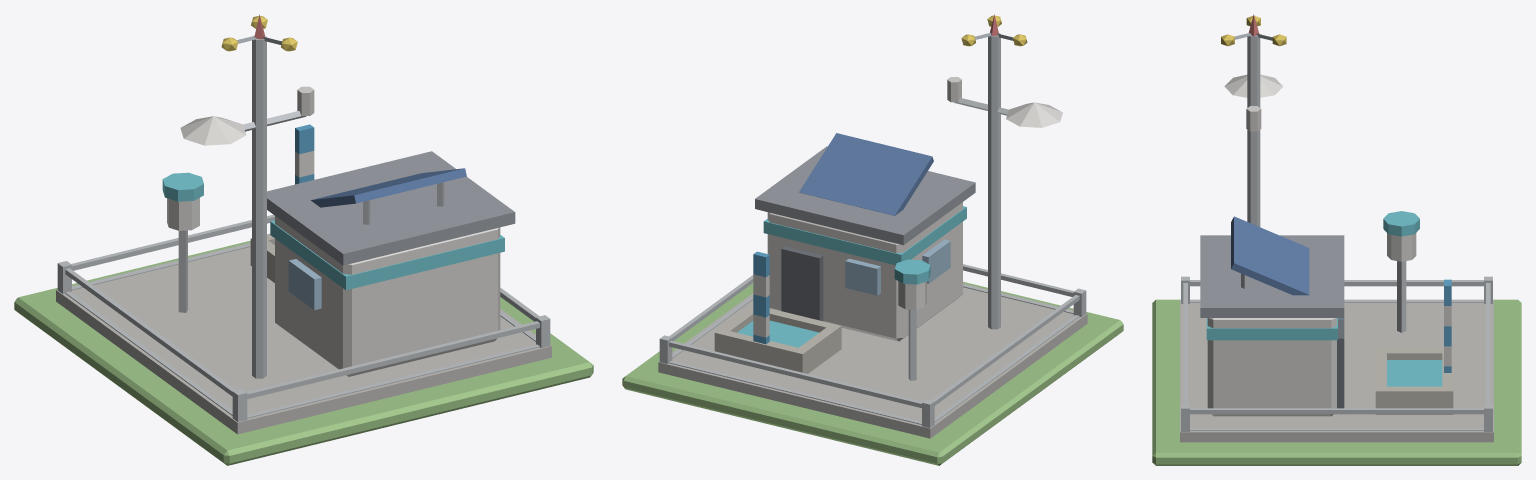
File: agua__estacao_monitoramento.glb
3 renders of one model, left to right at view 1: azimuth 30°, elevation 25°; view 2: azimuth 150°, elevation 25°; view 3: azimuth 270°, elevation 25°, orthographic. The views are drawn at different scales.
Visible parts, largest first — view 1: agua__estacao_monitoramento; view 2: agua__estacao_monitoramento; view 3: agua__estacao_monitoramento.
Part boxes in pixels (x1,y1,x2,y2): agua__estacao_monitoramento: (14,14,593,465); agua__estacao_monitoramento: (622,14,1123,465); agua__estacao_monitoramento: (1152,14,1521,465).
Bounding box in the file's own units: 2 × 2.01 × 2.
